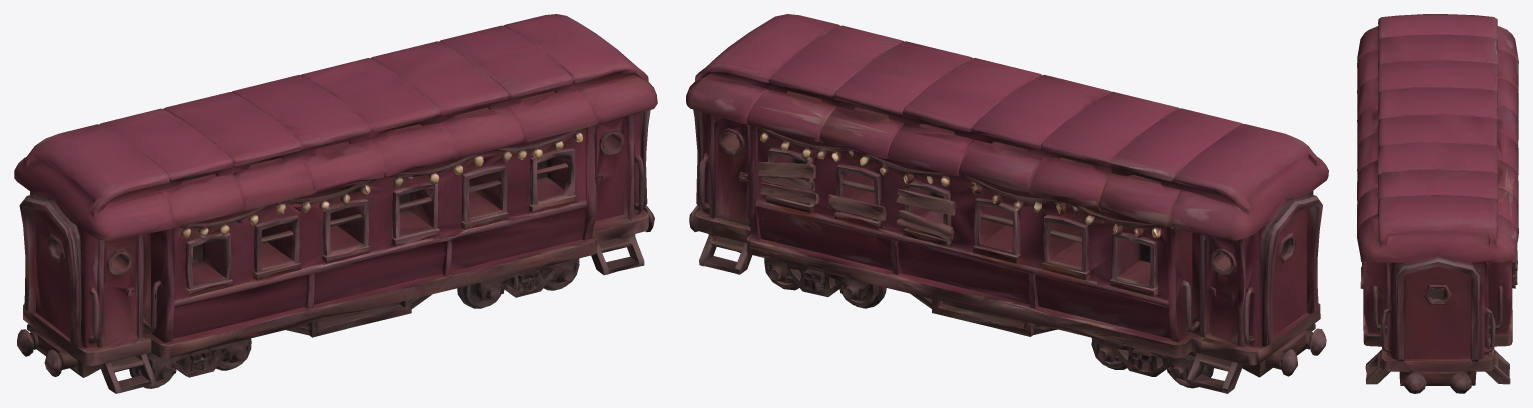
File: train_coach_d_idle.glb
The picture shows the model from 3 angles, left to right: view 1: azimuth 30°, elevation 25°; view 2: azimuth 150°, elevation 25°; view 3: azimuth 270°, elevation 25°; orthographic projection. The views are drawn at different scales.
Visible parts, largest first — view 1: tripo_node_2dbdd3a9-fb59-4f0c-81f2-a7290c7ace49; view 2: tripo_node_2dbdd3a9-fb59-4f0c-81f2-a7290c7ace49; view 3: tripo_node_2dbdd3a9-fb59-4f0c-81f2-a7290c7ace49.
Part boxes in pixels (box(x1,y1,x2,y2)): tripo_node_2dbdd3a9-fb59-4f0c-81f2-a7290c7ace49: box(14, 14, 657, 393); tripo_node_2dbdd3a9-fb59-4f0c-81f2-a7290c7ace49: box(686, 14, 1328, 393); tripo_node_2dbdd3a9-fb59-4f0c-81f2-a7290c7ace49: box(1357, 14, 1518, 393).
Size of the model in its own units: 8 by 2.9 by 2.27.
Materials: 1 (1 with a texture image).
